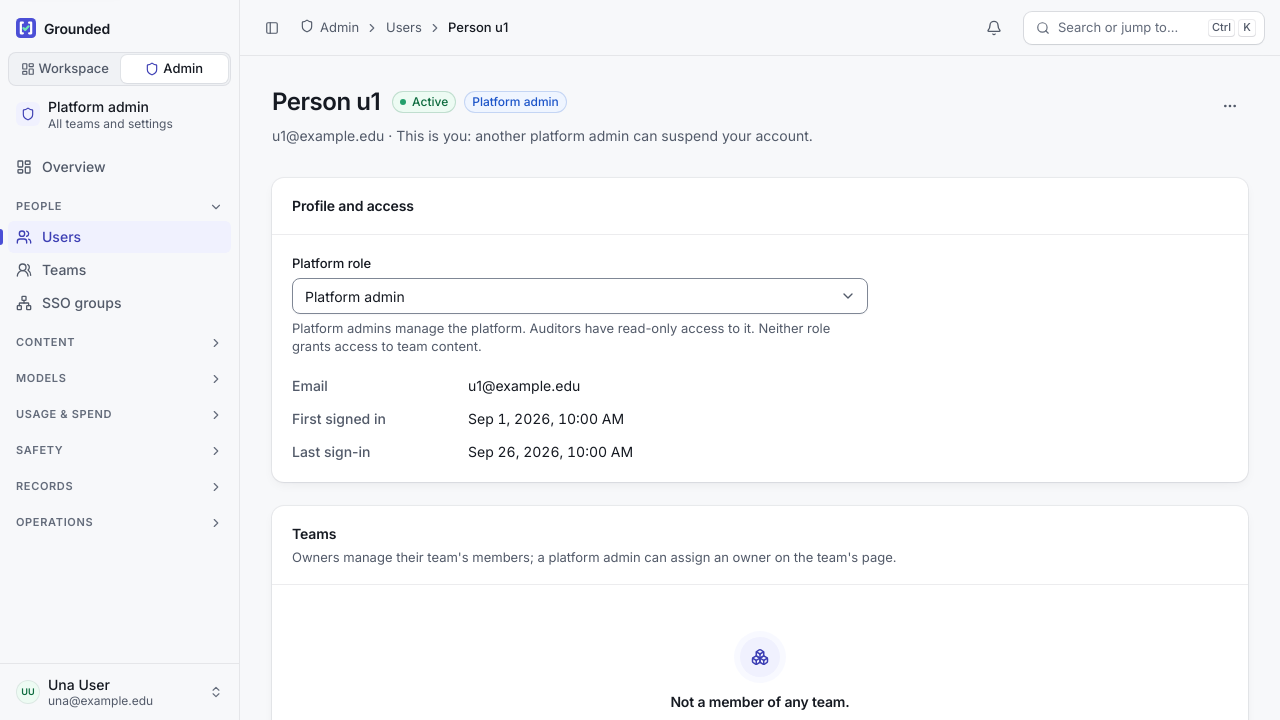
Test: admin users and teams › speaks to you on your own record, and shows a refusal once (AD-18)
This screenshot has width=1280, height=720.
Step 1. Select "None" in the dropdown labelled "Platform role" → {"x": 580, "y": 296}, box [292, 278, 868, 314]
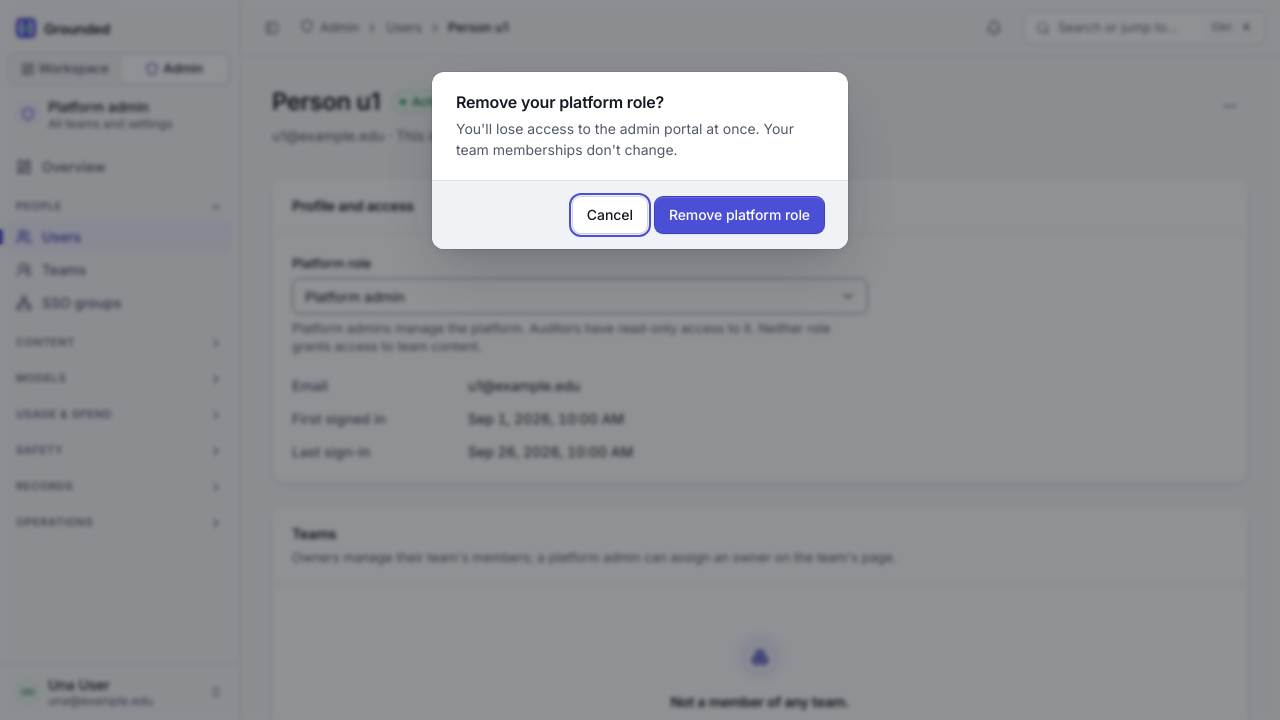
Expected: the text "You'll lose access to the admin portal" is shown, [456, 120, 794, 158]
Step 2. Click the button "Remove platform role" → {"x": 739, "y": 215}, box [655, 197, 824, 233]
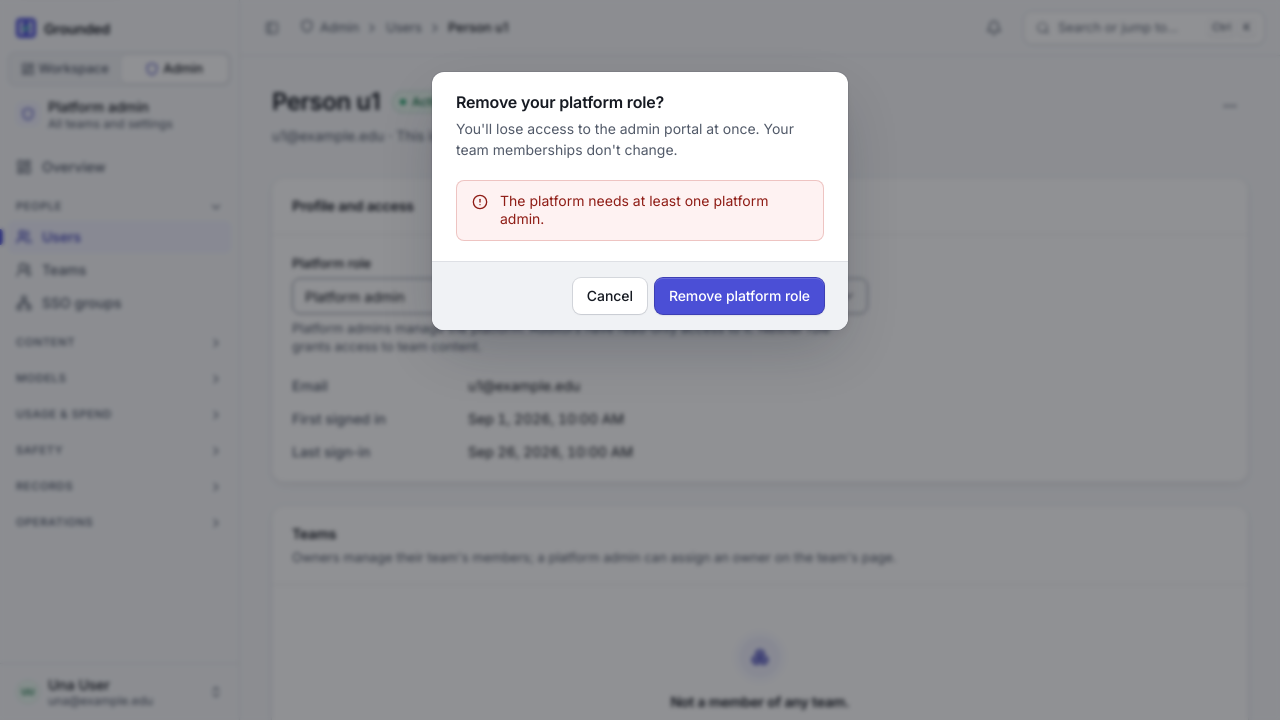
Expected: the text "The platform needs at least one platform admin." is shown once, [500, 192, 808, 229]
